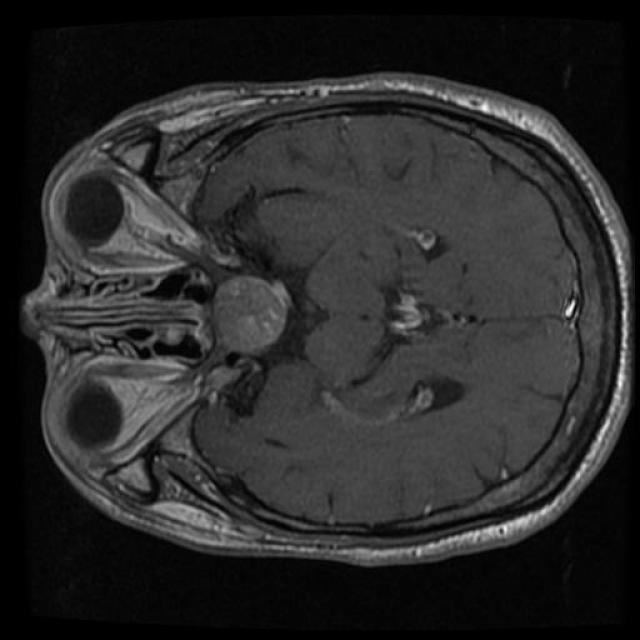Pituitary: (212, 275, 292, 360)
